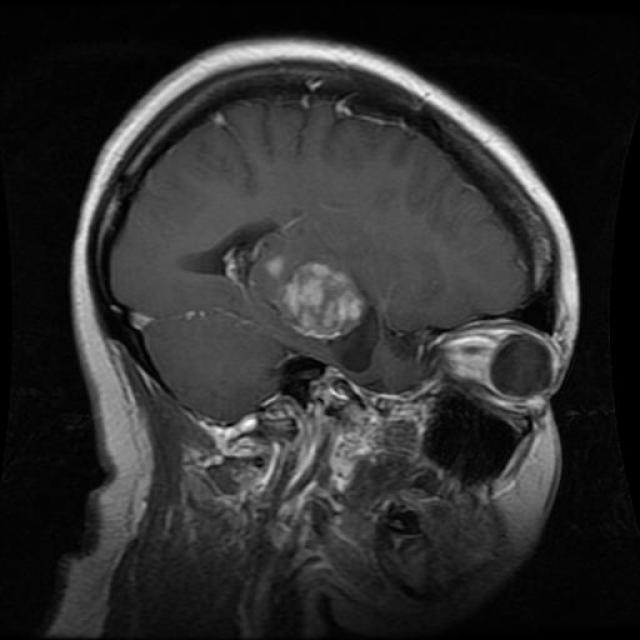glioma: (210, 221, 374, 345)
